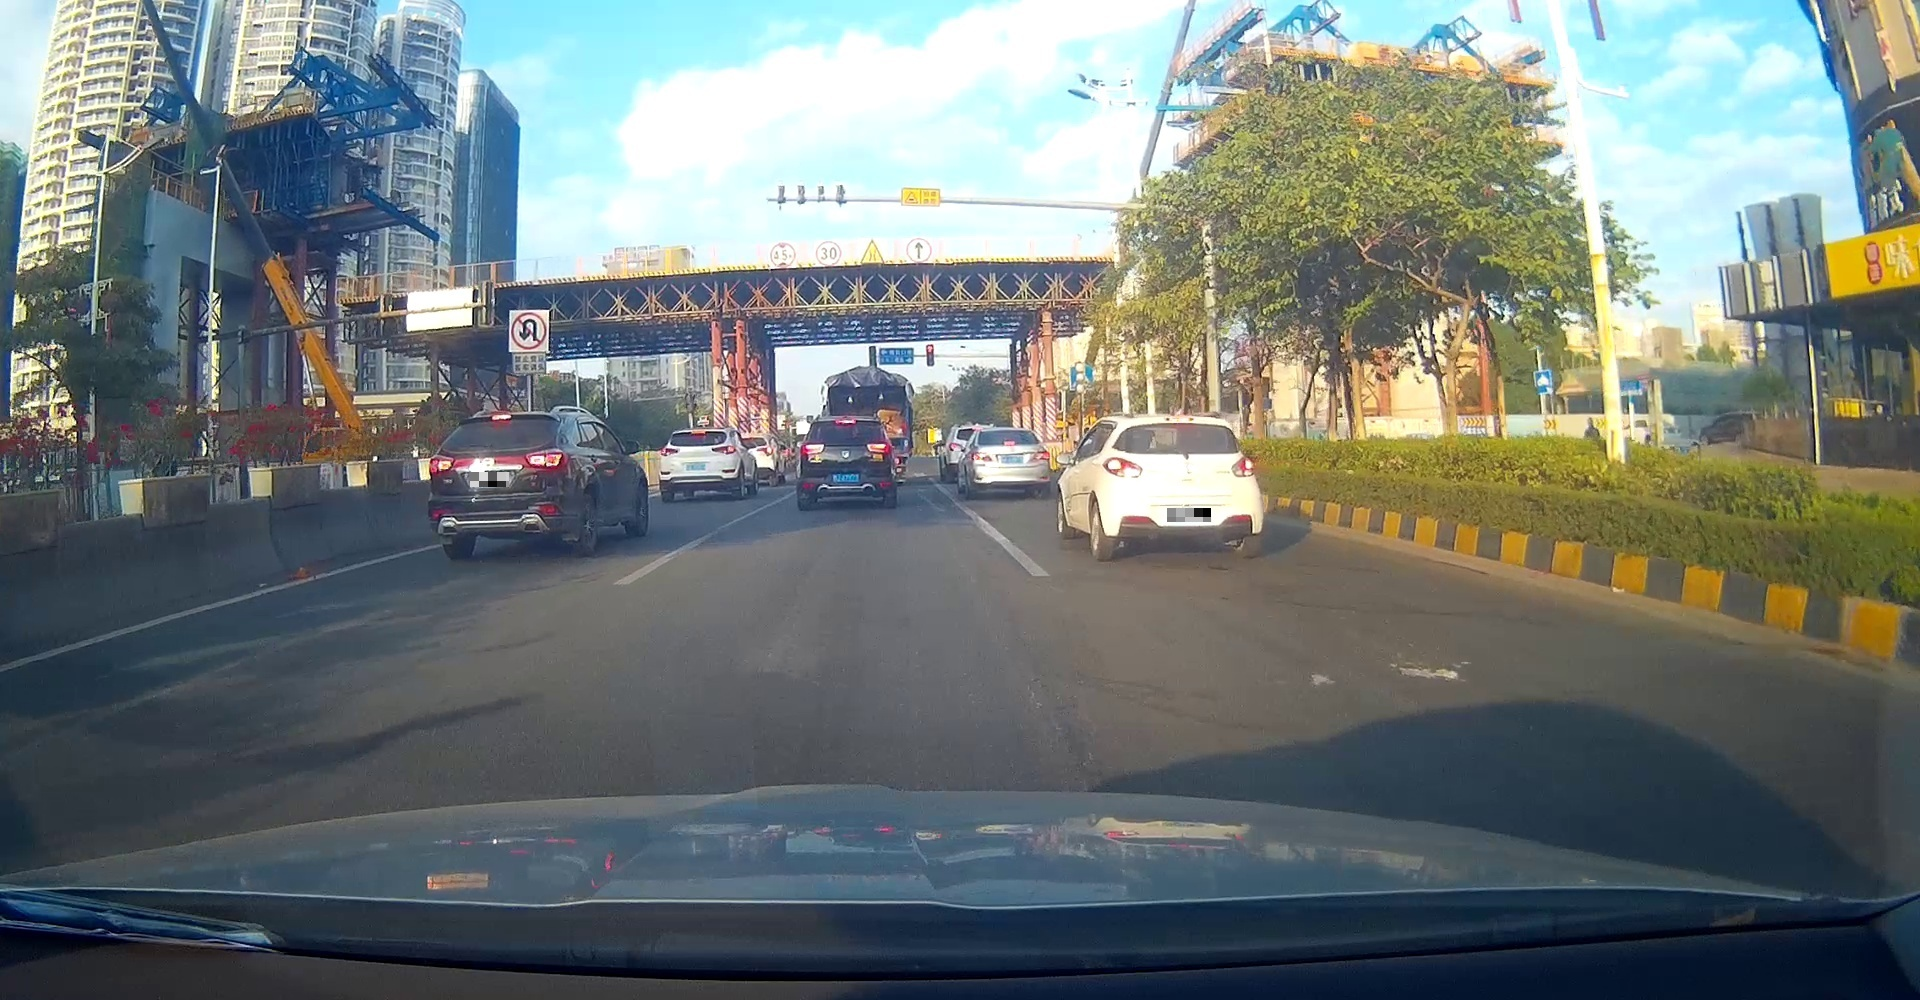L_light: (1102, 457, 1142, 478), (429, 454, 455, 475), (800, 443, 824, 454), (660, 447, 679, 456), (970, 453, 992, 461)
R_light: (524, 448, 568, 470), (1232, 454, 1255, 476), (866, 442, 893, 453), (711, 445, 737, 456), (1034, 451, 1050, 459)
T_light: (836, 419, 856, 424), (491, 415, 510, 420), (1170, 423, 1194, 426), (691, 431, 706, 435), (1004, 442, 1015, 445)
day-brake: (1098, 414, 1263, 560), (427, 412, 571, 557), (796, 415, 898, 510), (658, 426, 738, 500), (969, 426, 1051, 496)
plate_1: (470, 472, 509, 487)
plate_2: (1167, 508, 1211, 522)
